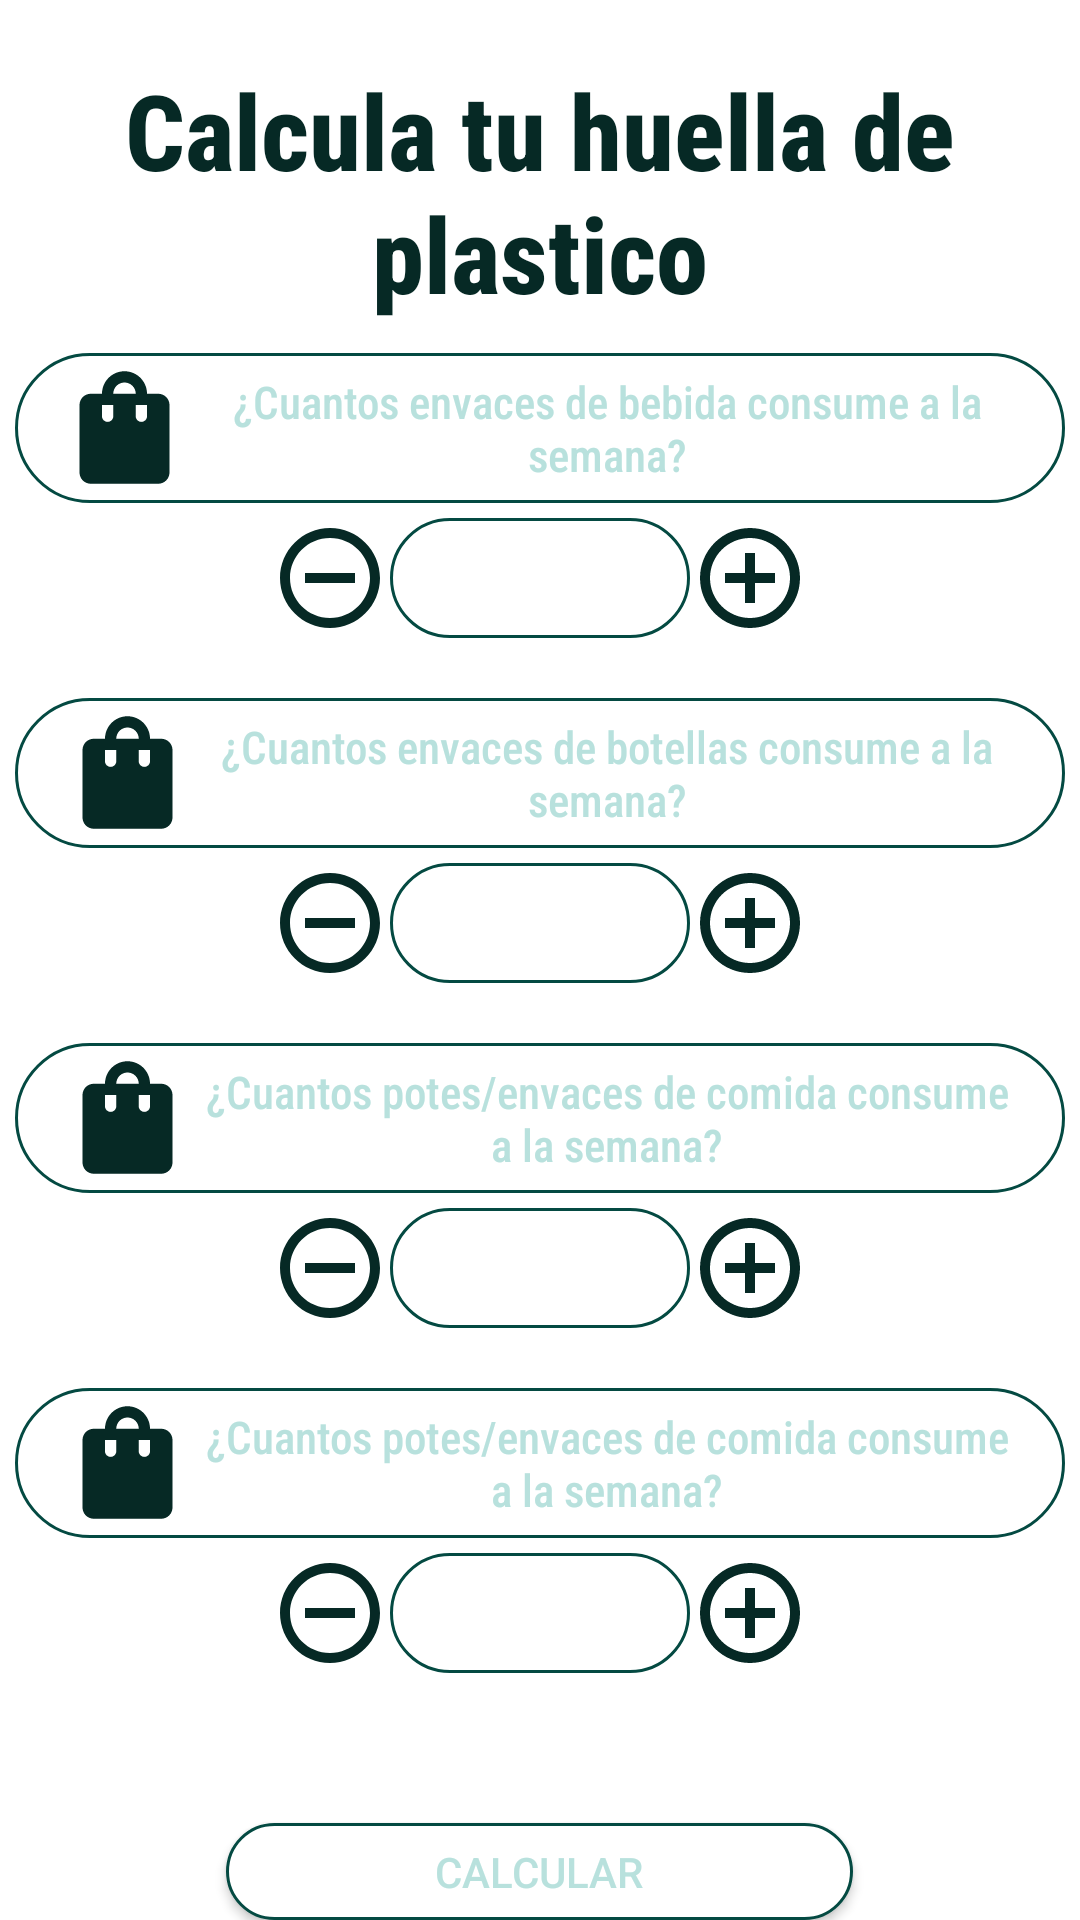

Where to tap for icons on this 1080*1920 app screen, as [x,y]:
minus: [330,578], [330,923], [330,1268], [330,1613]
plus: [750,578], [750,923], [750,1268], [750,1613]
